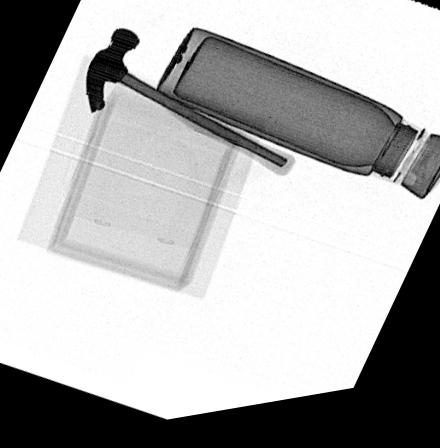Hammer: (84, 31, 296, 187)
